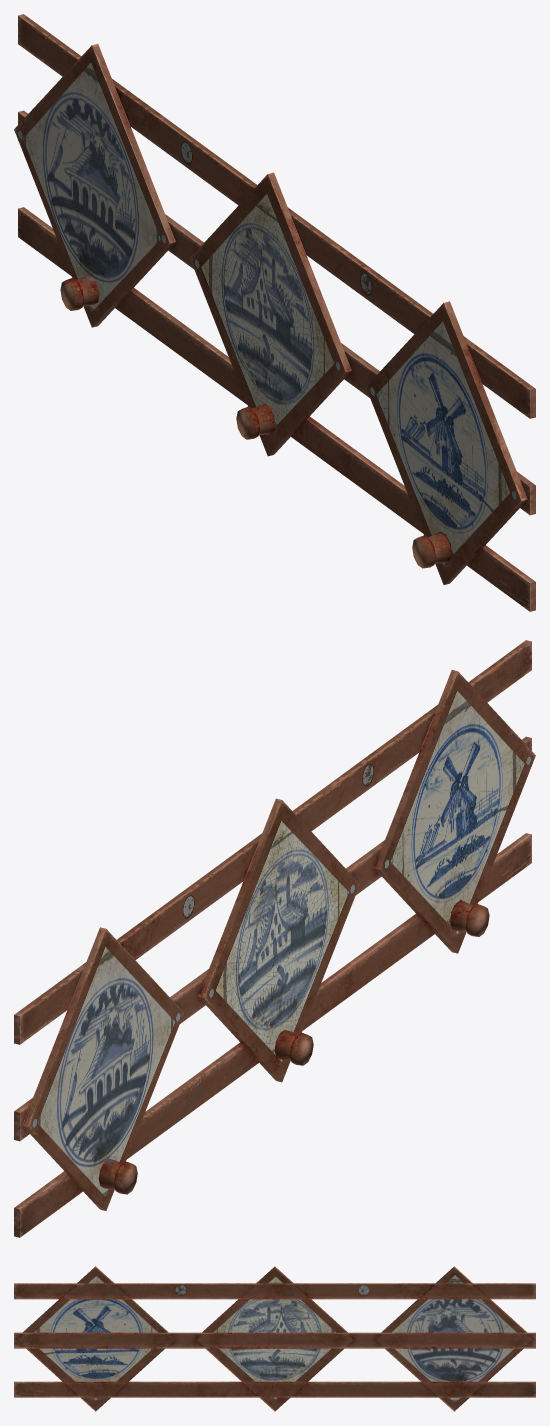
The model's file is Hanger01.FBX.
3 renders of one model, top to bottom at view 1: azimuth 30°, elevation 25°; view 2: azimuth 150°, elevation 25°; view 3: azimuth 270°, elevation 25°, orthographic. The views are drawn at different scales.
Parts seen in each view (by area): view 1: Hanger01_LOD0; view 2: Hanger01_LOD0; view 3: Hanger01_LOD0.
Part boxes in pixels (x1,y1,x2,y2): Hanger01_LOD0: [14, 14, 535, 611]; Hanger01_LOD0: [14, 640, 535, 1237]; Hanger01_LOD0: [14, 1266, 535, 1411].
Size of the model in its own units: 1.89 by 44.71 by 13.6.
